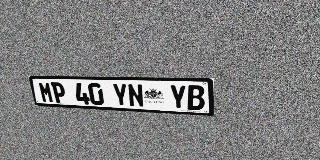plate: (28, 76, 214, 116)
